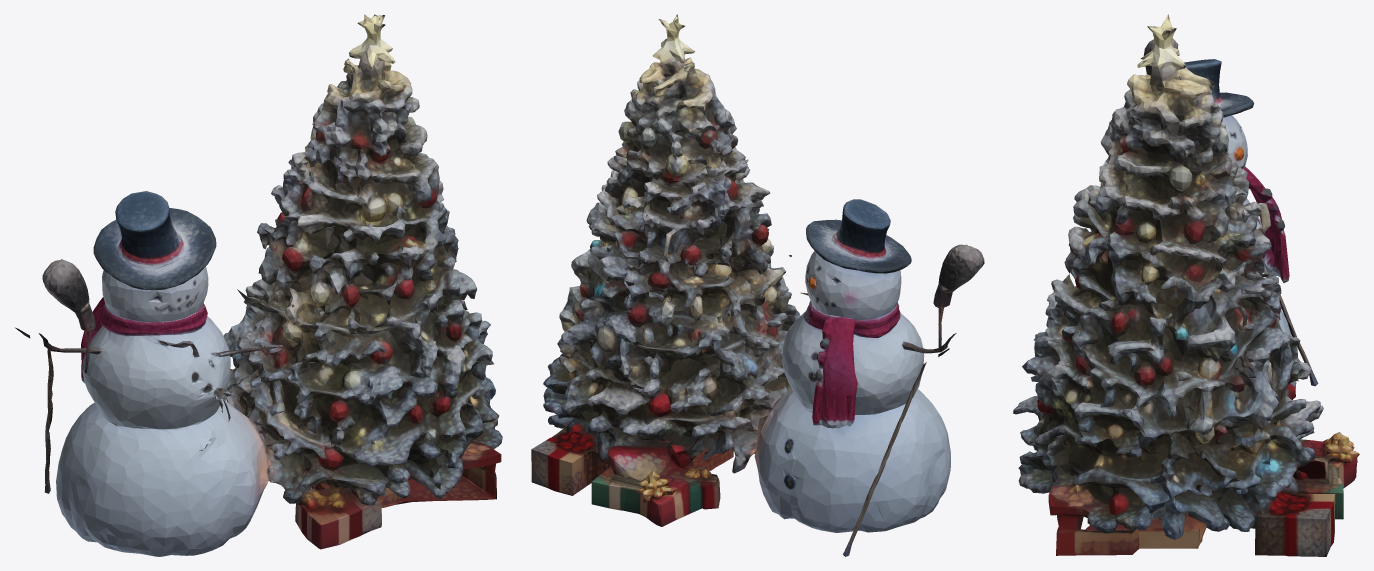
File: snowman.glb
The picture shows the model from 3 angles, left to right: view 1: azimuth 30°, elevation 25°; view 2: azimuth 150°, elevation 25°; view 3: azimuth 270°, elevation 25°; orthographic projection. The views are drawn at different scales.
Parts seen in each view (by area): view 1: world; view 2: world; view 3: world.
Part boxes in pixels (x1,y1,x2,y2): world: [15, 14, 502, 556]; world: [531, 14, 984, 556]; world: [1013, 14, 1359, 556].
Bounding box in the file's own units: 0.9851 × 0.9884 × 0.6174.
Materials: 1 (1 with a texture image).
